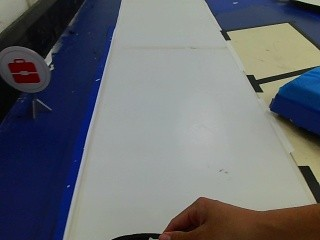company: (0, 45, 49, 95)
